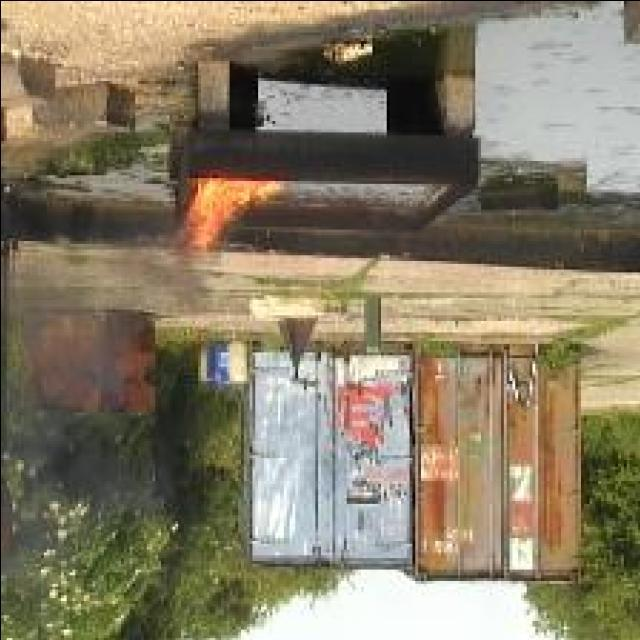Fire: (182, 178, 282, 252)
